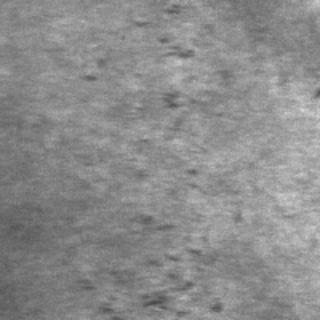rolled pit: (63, 210, 219, 316), (128, 0, 198, 146)
